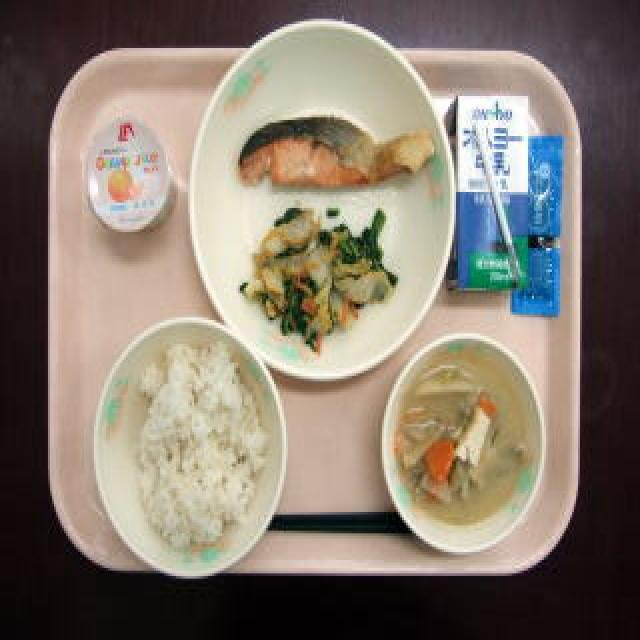熟制海鲜: (216, 90, 436, 186)
